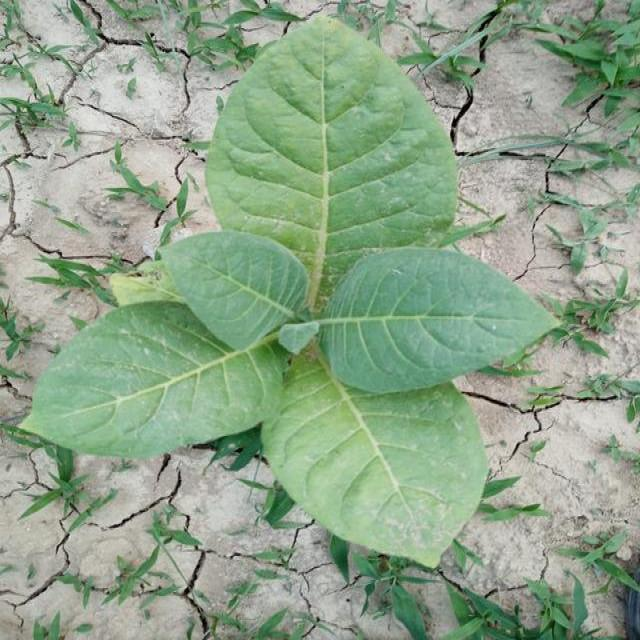crop: (38, 20, 559, 556)
